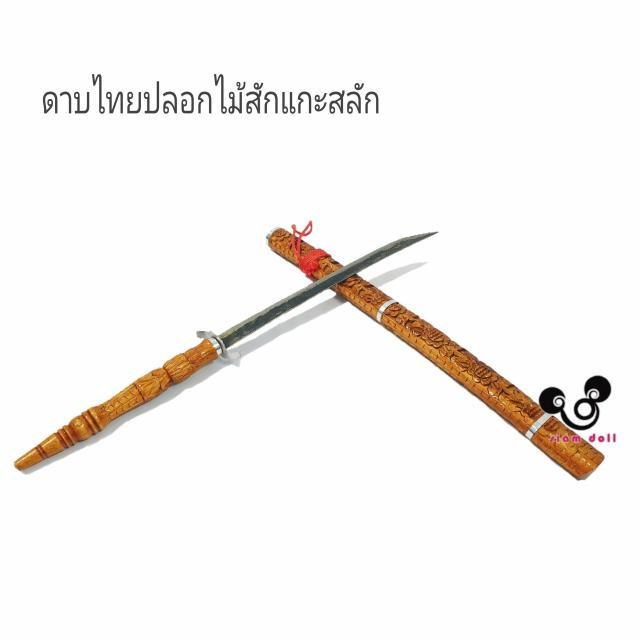long sword: (13, 223, 440, 477)
